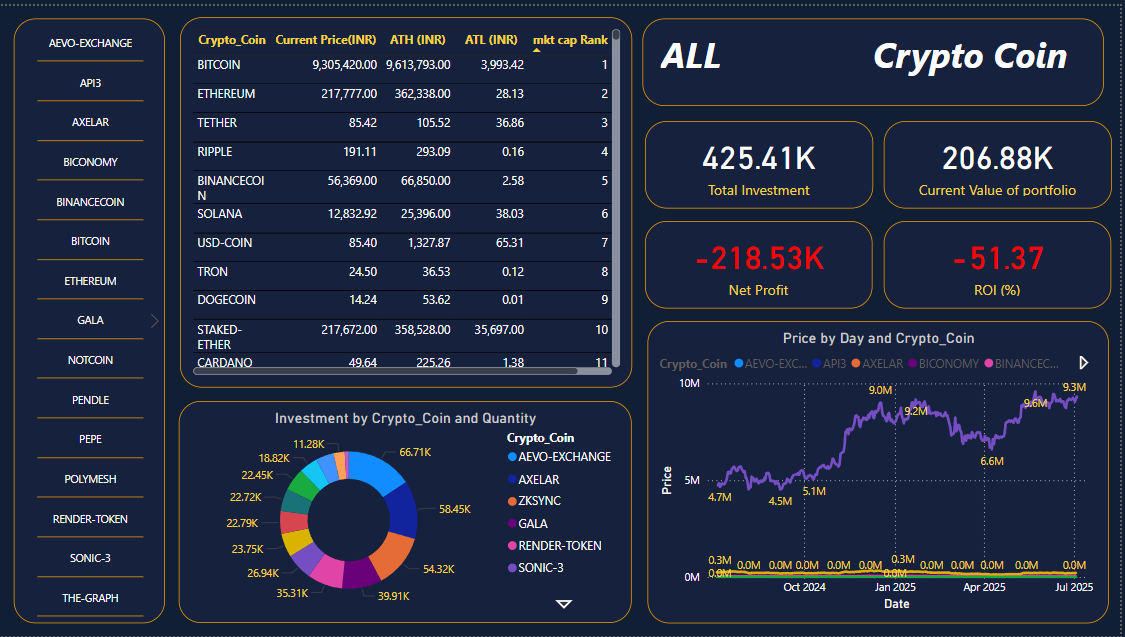

This screenshot's page, from the dashboard's own definition file:
{"tool":"powerbi","page":{"name":"Overview","canvas":[1280,720],"ordinal":0},"visuals":[{"type":"tableEx","fields":{"Values":["Crypto_coin data.Crypto_Coin","Crypto_coin data.Current Price(INR)","Crypto_coin data.ATH (INR)","Crypto_coin data.ATL (INR)","Crypto_coin data.Market Cap Rank","Crypto_coin data.image"]},"box":[205.7,12.9,517.1,422.9],"z":0},{"type":"lineChart","title":" Price by Day and Crypto_Coin","fields":{"Category":["Historical coin data.Date"],"Y":["Avg(Historical coin data.Price)"],"Series":["Historical coin data.Crypto_Coin"]},"box":[737.4,359.5,527,346.1],"z":1000},{"type":"donutChart","title":"Investment by Crypto_Coin and Quantity","fields":{"Category":["Portfolio.Crypto_Coin"],"Y":["Avg(Portfolio.Initial Investment)"],"Series":["Portfolio.Quantity"]},"box":[204.5,451.5,517.3,253.9],"z":2000},{"type":"card","fields":{"Values":["Portfolio.Initial Investment of portfoilio"]},"box":[736.9,131,260.7,100],"z":3000},{"type":"card","fields":{"Values":["Portfolio.Current Value of portfolio"]},"box":[1010,131,260.7,100.2],"z":4000},{"type":"card","fields":{"Values":["Portfolio.ROI (%)"]},"box":[1010,245,260,100],"z":5000},{"type":"card","fields":{"Values":["Portfolio.Net Profit"]},"box":[737.1,245,260,100],"z":6000},{"type":"slicer","fields":{"Values":["Portfolio.Crypto_Coin"]},"box":[15.7,14.3,172.9,691.4],"z":7000},{"type":"multiRowCard","fields":{"Values":["Crypto_coin data.image1","Portfolio.Coin Name"]},"box":[734.3,14.3,527.1,100],"z":8000},{"type":"actionButton","box":[838.6,31.4,148.6,65.7],"z":9000}]}

Visuals, with their boxes in screenshot pixels (x1, y1, x2, y2), scaled from the page's 1280x720 canvas onto the 1125x637 screenshot:
tableEx - Crypto_coin data.Crypto_Coin x Crypto_coin data.Current Price(INR): 181,11,635,386
" Price by Day and Crypto_Coin" lineChart: 648,318,1111,624
"Investment by Crypto_Coin and Quantity" donutChart: 180,399,634,624
card - Portfolio.Initial Investment of portfoilio: 648,116,877,204
card - Portfolio.Current Value of portfolio: 888,116,1117,205
card - Portfolio.ROI (%): 888,217,1116,305
card - Portfolio.Net Profit: 648,217,876,305
slicer - Portfolio.Crypto_Coin: 14,13,166,624
multiRowCard - Crypto_coin data.image1 x Portfolio.Coin Name: 645,13,1109,101
actionButton: 737,28,868,86
